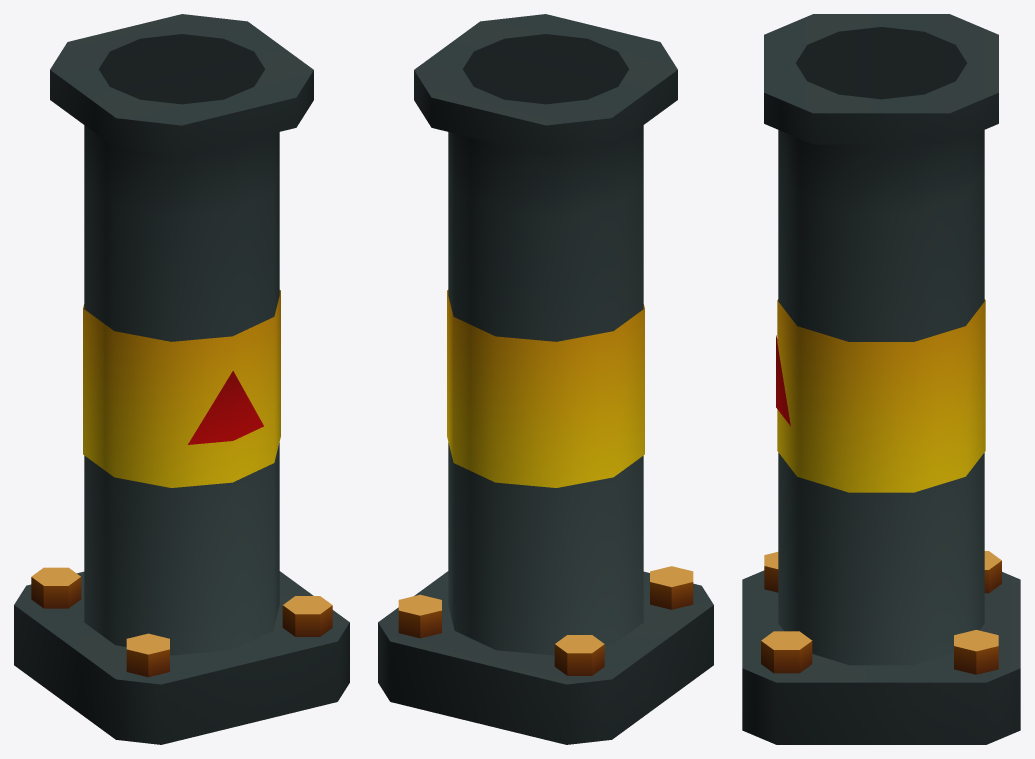
File: Pipe_3C.fbx
3 renders of one model, left to right at view 1: azimuth 30°, elevation 25°; view 2: azimuth 150°, elevation 25°; view 3: azimuth 270°, elevation 25°, orthographic. The views are drawn at different scales.
Visible parts, largest first — view 1: Pipe_3C; view 2: Pipe_3C; view 3: Pipe_3C.
Boxes of the visible parts, left/top/right/bottom form: Pipe_3C: left=14, top=14, right=349, bottom=744; Pipe_3C: left=378, top=14, right=713, bottom=744; Pipe_3C: left=742, top=14, right=1020, bottom=744.
Size of the model in its own units: 1.62 by 4 by 1.62.
